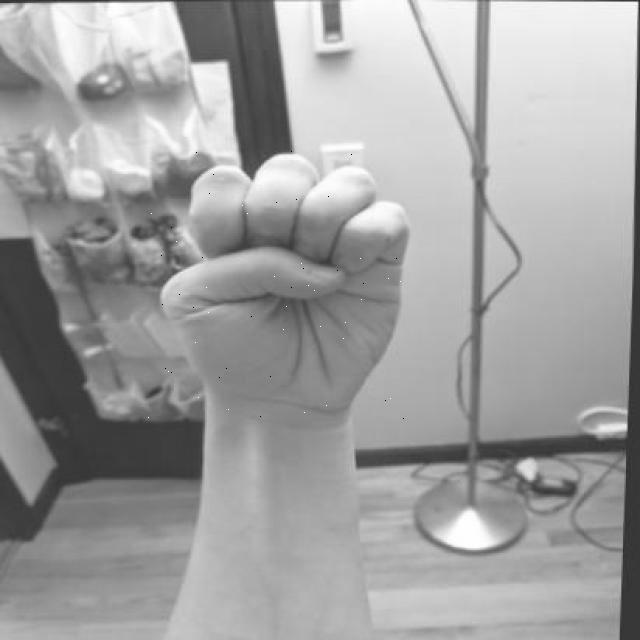E: (148, 146, 422, 419)
